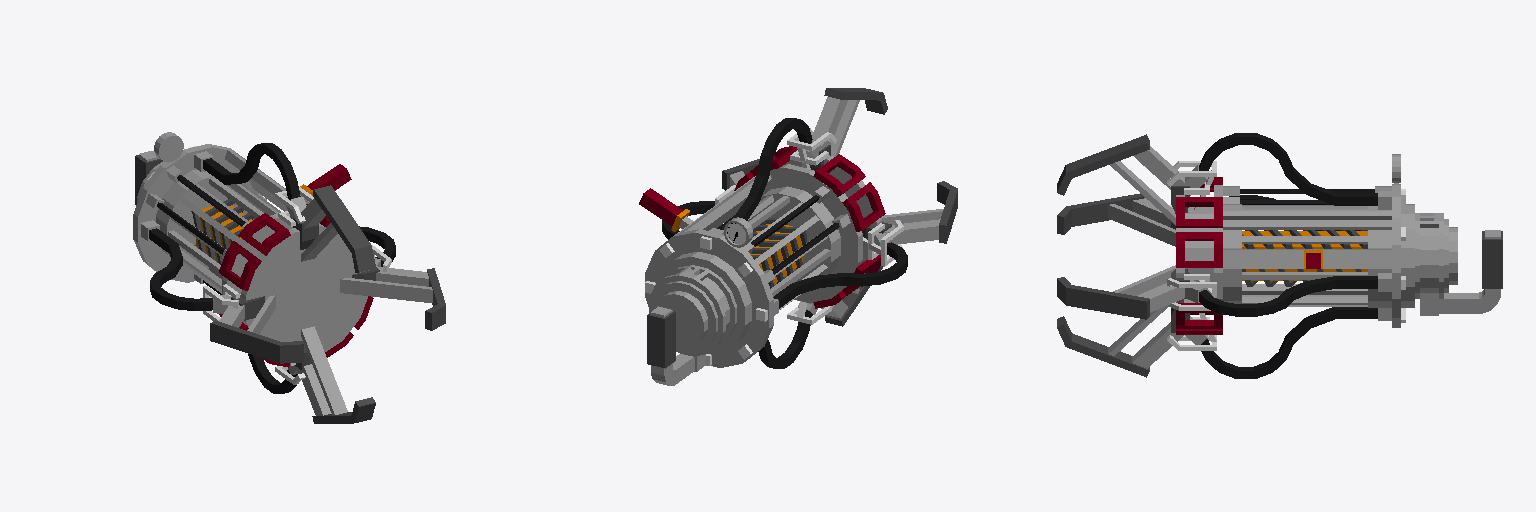
3 renders of one model, left to right at view 1: azimuth 30°, elevation 25°; view 2: azimuth 150°, elevation 25°; view 3: azimuth 270°, elevation 25°, orthographic.
Parts seen in each view (by area): view 1: cube; view 2: cube; view 3: cube.
Boxes of the visible parts, x1=… form: cube: x1=133, y1=132, x2=445, y2=423; cube: x1=639, y1=88, x2=957, y2=385; cube: x1=1057, y1=133, x2=1502, y2=378.
Bounding box in the file's own units: 0.8816 × 0.8816 × 1.47.
Materials: 2 (2 with a texture image).